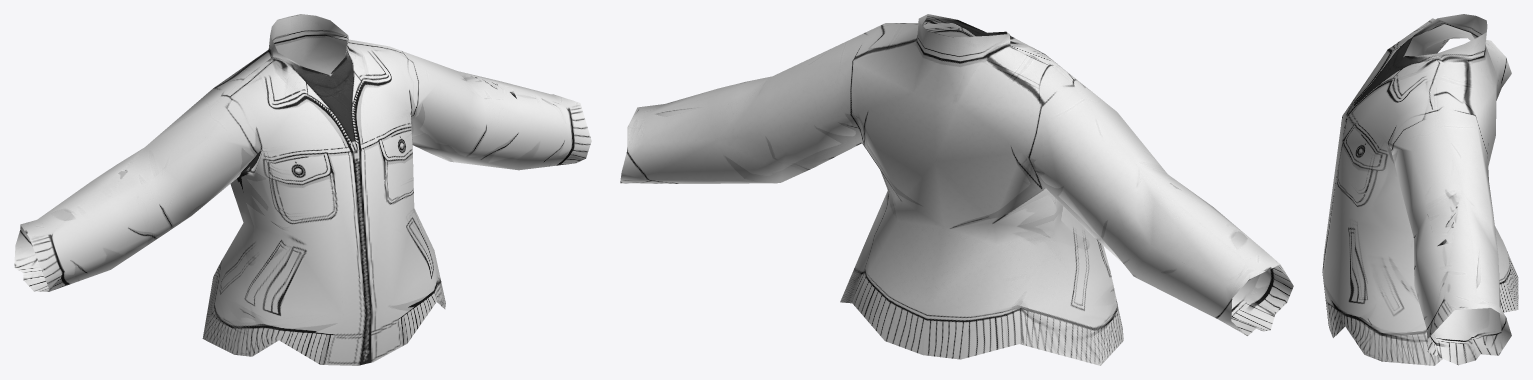
Rendered from Jacket.glb.
3 views of the same model, side by side, from view 1: azimuth 30°, elevation 25°; view 2: azimuth 150°, elevation 25°; view 3: azimuth 270°, elevation 25° (orthographic). The views are drawn at different scales.
Visible parts, largest first — view 1: Jacket; view 2: Jacket; view 3: Jacket.
Part boxes in pixels (x1,y1,x2,y2): Jacket: (14,14,591,365); Jacket: (620,14,1293,365); Jacket: (1322,14,1518,365).
Bounding box in the file's own units: 16.52 × 8.34 × 4.95.
1 material, 1 textured.
